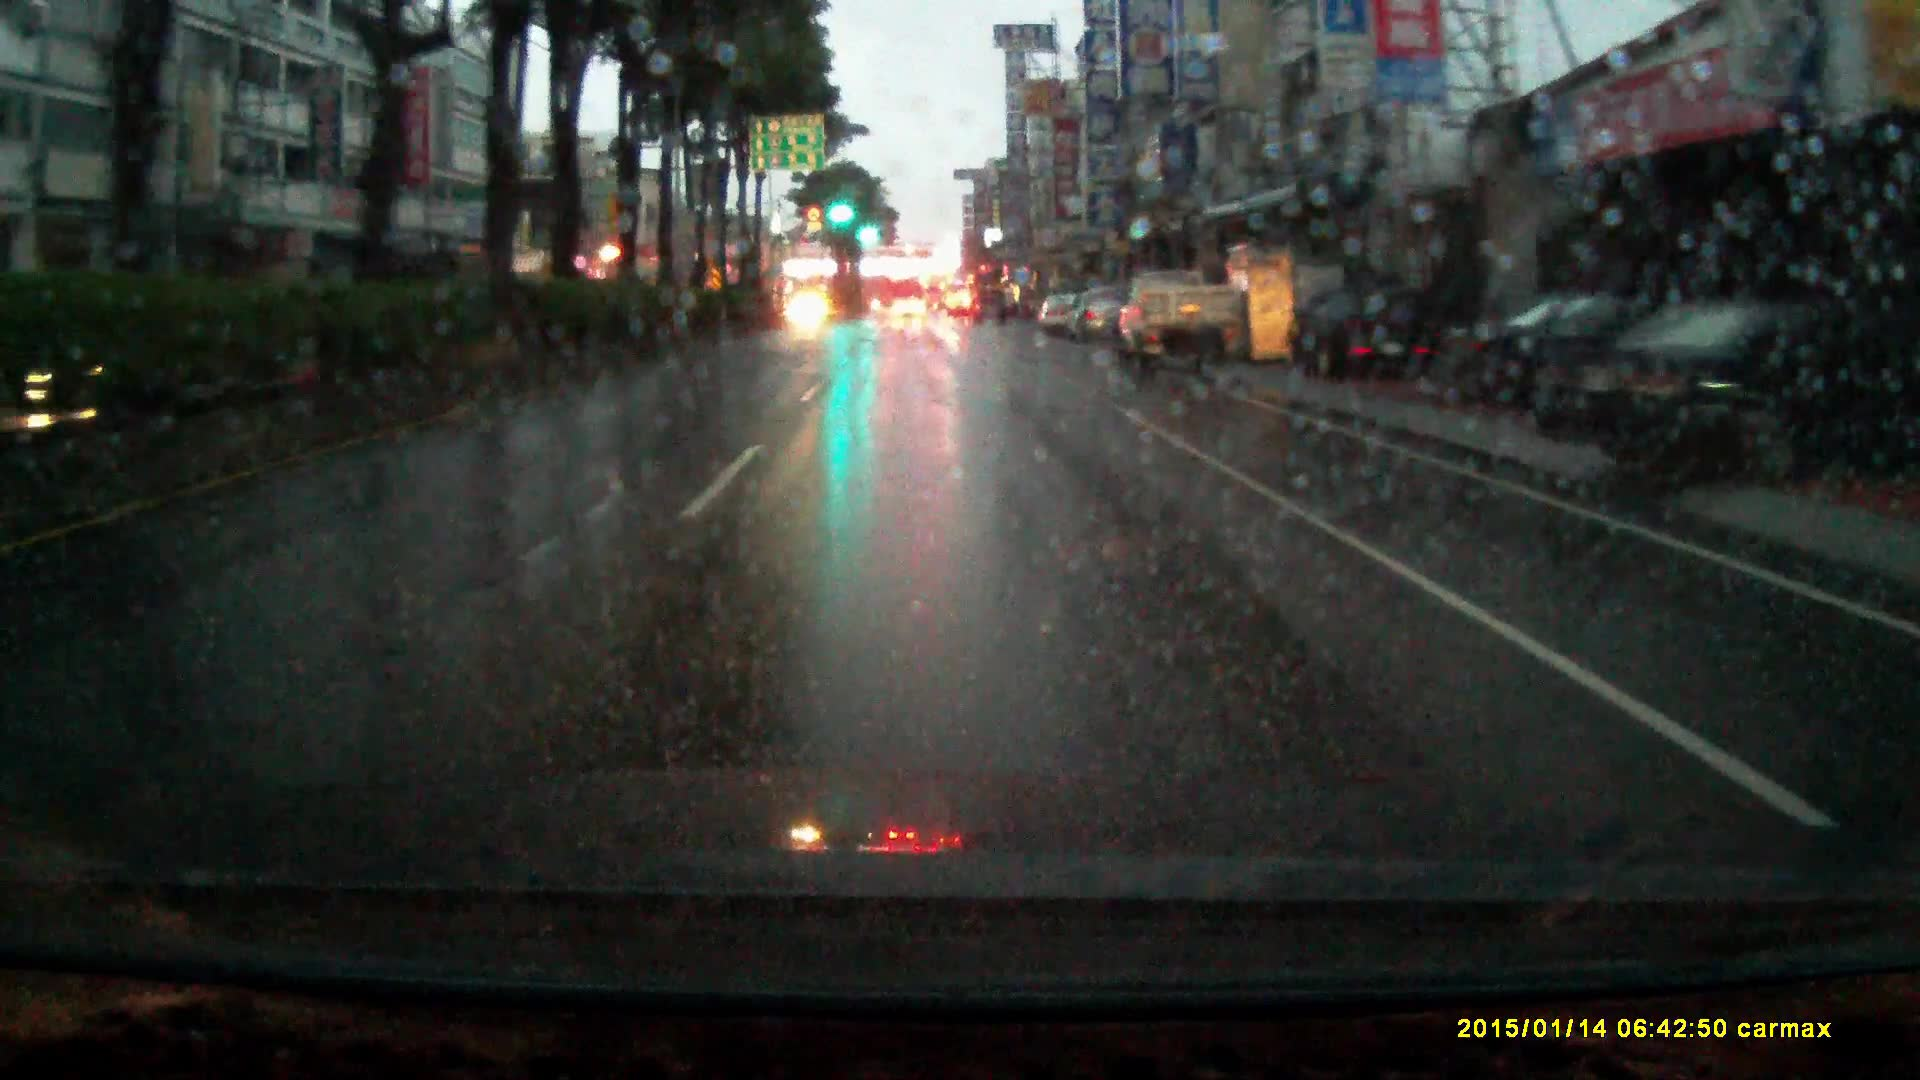vehicle: (1538, 298, 1919, 496), (1451, 298, 1755, 413), (1116, 266, 1242, 375), (1294, 287, 1435, 378), (1068, 287, 1126, 343), (1038, 291, 1081, 336), (789, 289, 832, 331), (972, 287, 1010, 324), (891, 295, 927, 320), (926, 276, 947, 313)
